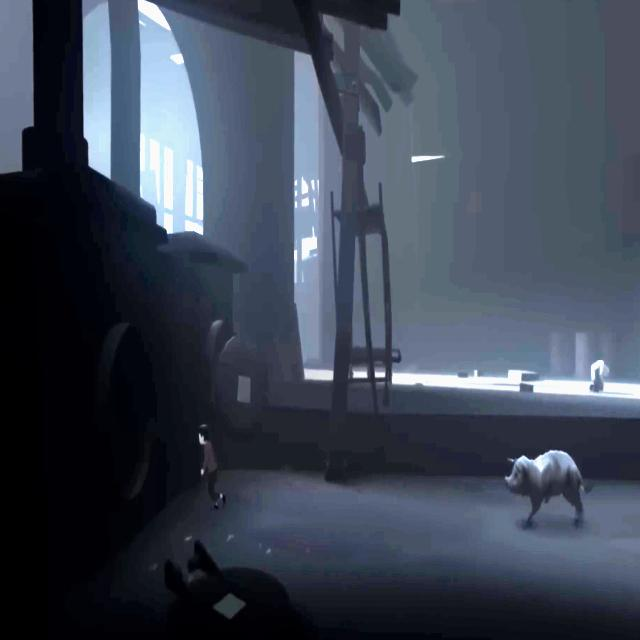boy: (199, 424, 226, 508)
zombie: (590, 360, 609, 393)
